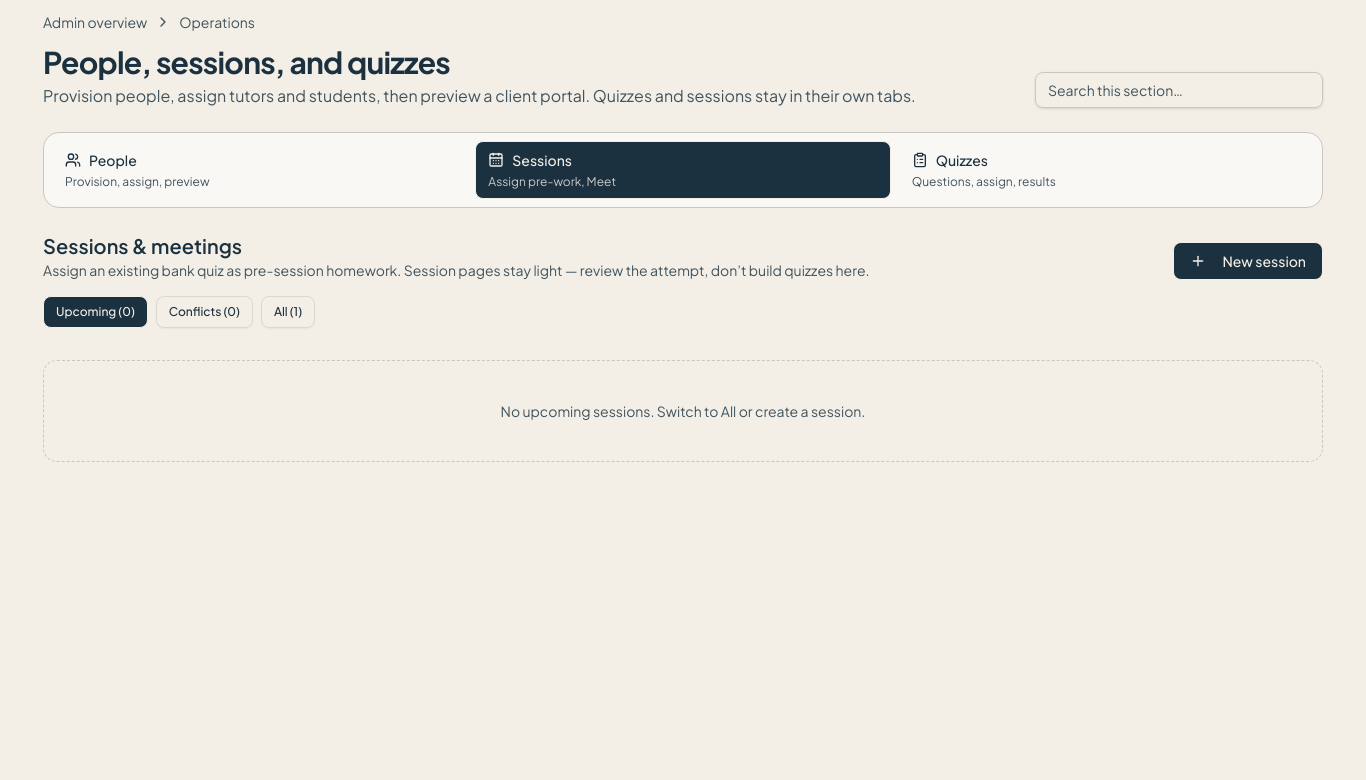
Test: curriculum bank IA › a paused pre-work attempt is in progress on the session card, not missing
Click the button "All (1)". click: (288, 312)
box: left=261, top=296, right=315, bottom=328
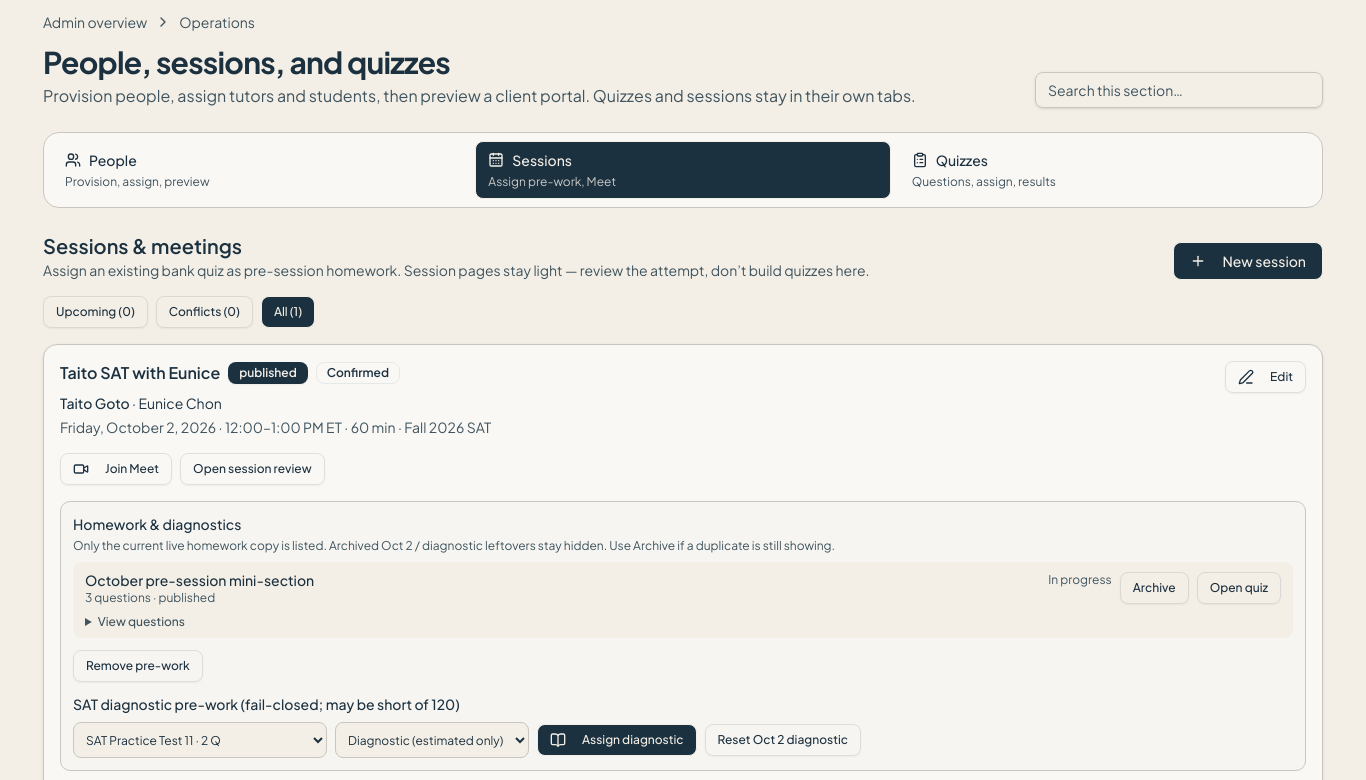
Result: the text with test id "session-prework-status-quiz-1" reads "In progress" at left=1048, top=572, right=1112, bottom=587
